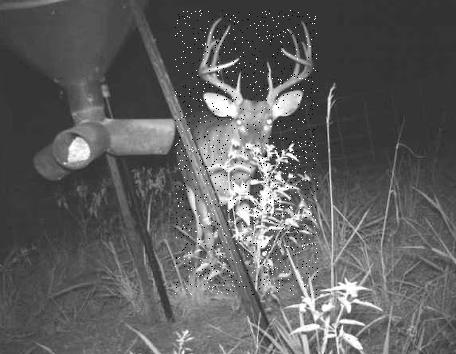Deer: (175, 10, 318, 295)
